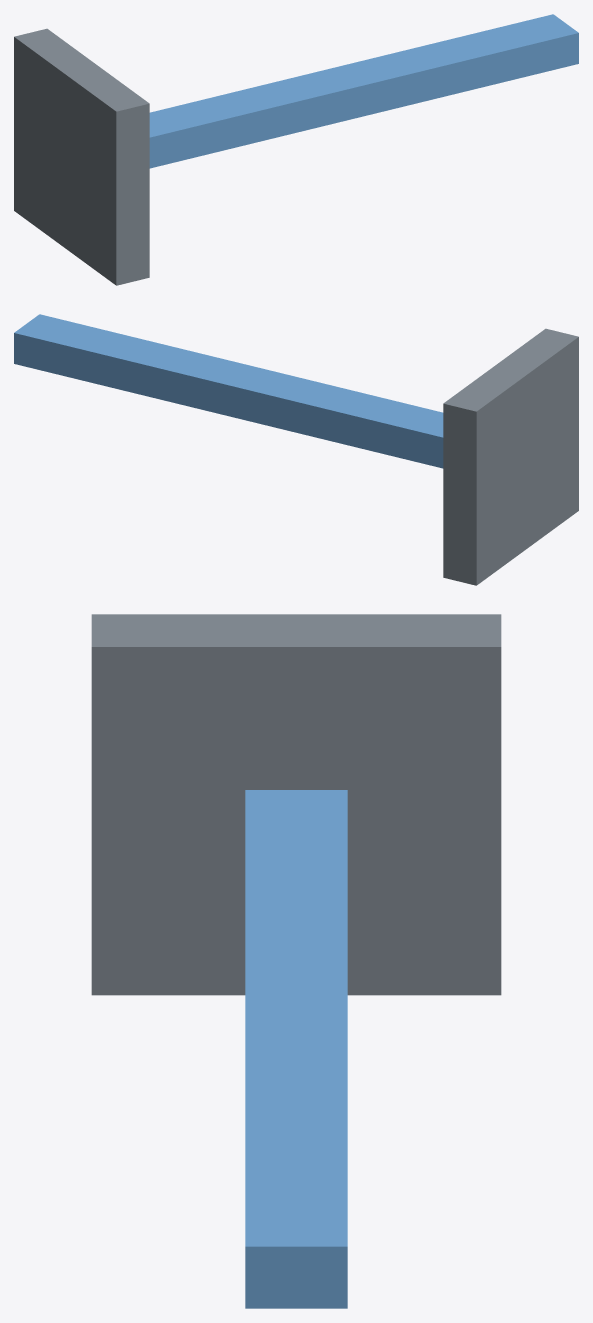
Rendered from demo.glb.
3 renders of one model, top to bottom at view 1: azimuth 30°, elevation 25°; view 2: azimuth 150°, elevation 25°; view 3: azimuth 270°, elevation 25°, orthographic. The views are drawn at different scales.
Visible parts, largest first — view 1: Fixed support, Beam; view 2: Fixed support, Beam; view 3: Fixed support, Beam.
Part boxes in pixels (x1,y1,x2,y2): Fixed support: (14,28,149,285); Beam: (149,14,578,168); Fixed support: (443,328,578,585); Beam: (14,314,443,468); Fixed support: (91,614,501,995); Beam: (245,790,347,1308).
Bounding box in the file's own units: 2.71 × 0.9 × 0.96.
